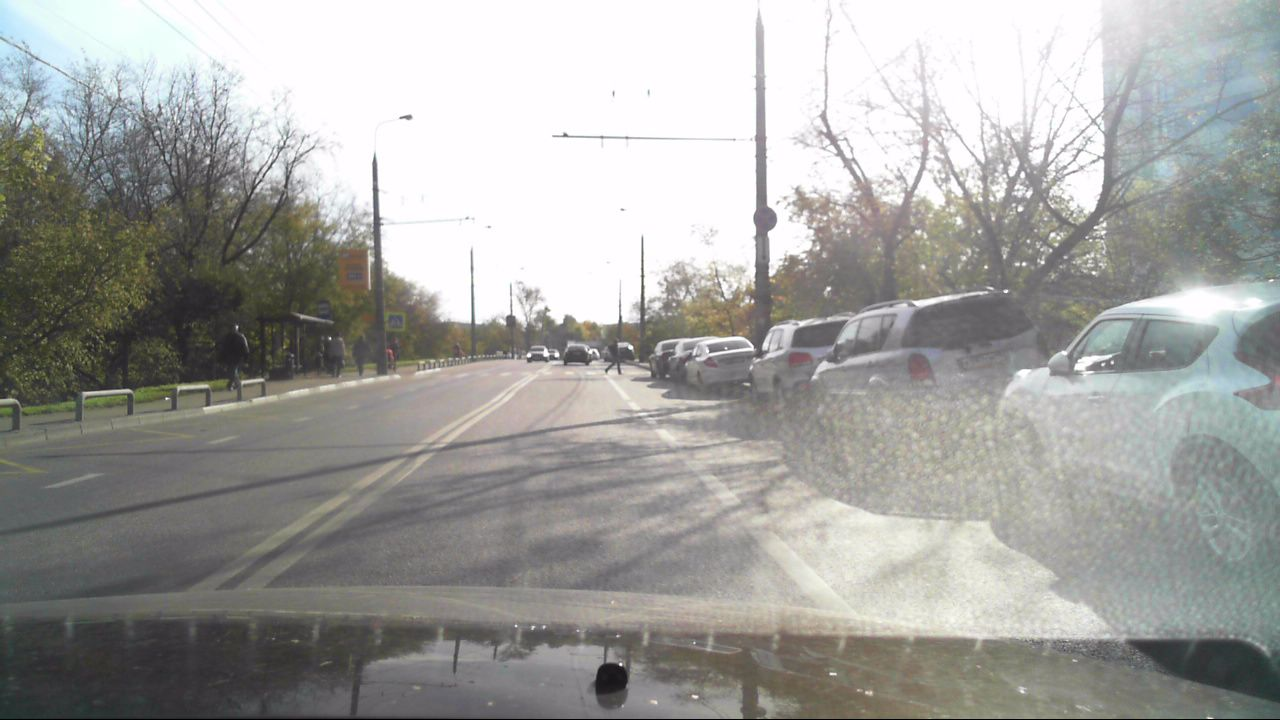No Parking: (753, 207, 779, 231)
